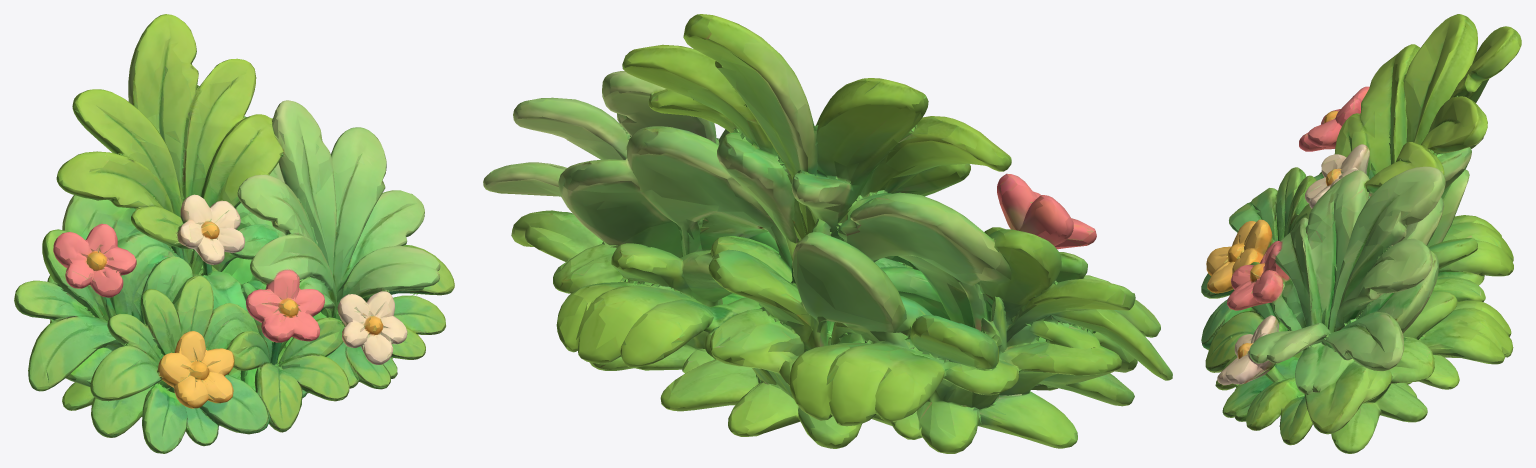
File: tropical-foliage-flowers-cluster-meshy6-web-v1.glb
3 views of the same model, side by side, from view 1: azimuth 30°, elevation 25°; view 2: azimuth 150°, elevation 25°; view 3: azimuth 270°, elevation 25° (orthographic). The views are drawn at different scales.
Bounding box in the file's own units: 1.9 × 1.32 × 1.1.
Materials: 1 (1 with a texture image).
